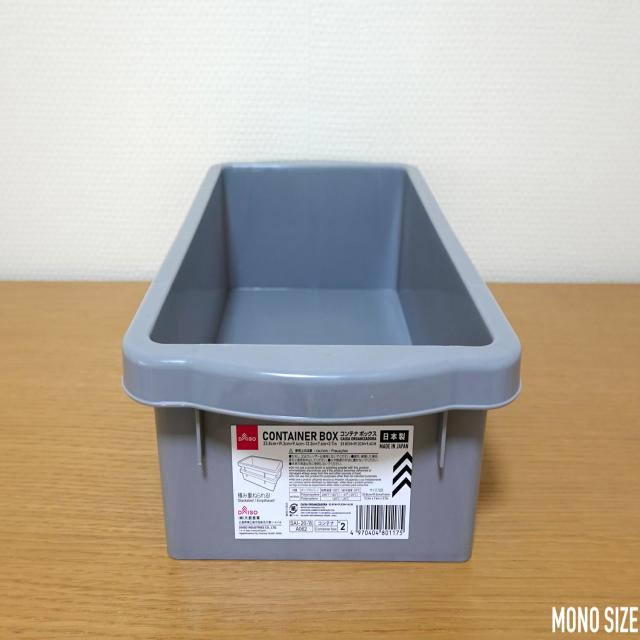plastic: (124, 157, 522, 571)
